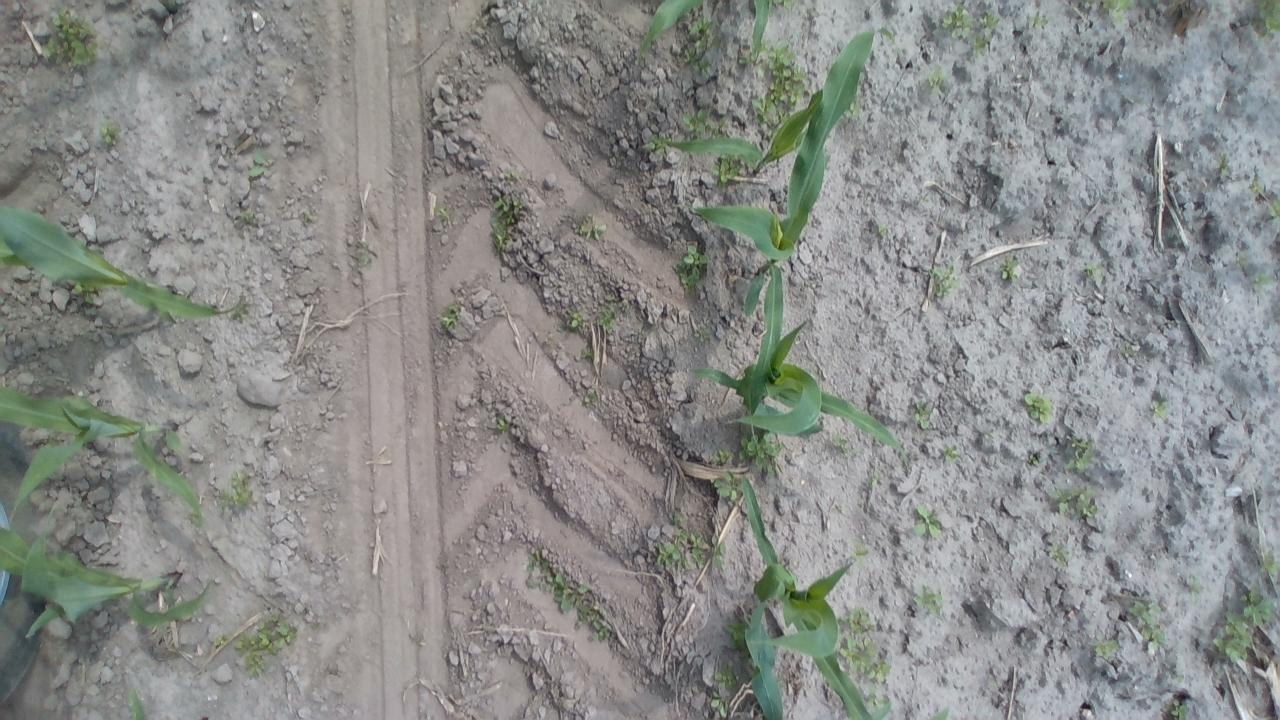Maize: (687, 37, 863, 324), (686, 270, 914, 460), (726, 473, 886, 720), (0, 197, 256, 328), (1, 389, 209, 526), (0, 516, 221, 642), (663, 36, 848, 172), (636, 0, 784, 65)
Weeds: (524, 546, 596, 614), (751, 44, 806, 126), (236, 612, 296, 676), (40, 10, 102, 71), (1211, 596, 1266, 662), (657, 526, 712, 570), (740, 428, 784, 474), (672, 243, 711, 293), (842, 607, 876, 662), (490, 195, 520, 250), (1052, 486, 1099, 520), (222, 470, 255, 510), (683, 109, 729, 136), (596, 296, 628, 334), (842, 635, 876, 670), (1022, 390, 1054, 425), (714, 670, 736, 718), (939, 4, 972, 36), (928, 264, 959, 298), (844, 607, 874, 641), (709, 156, 740, 188), (1128, 598, 1160, 629), (1068, 437, 1096, 472), (1252, 0, 1276, 40), (914, 505, 941, 538), (1098, 0, 1136, 23), (710, 477, 744, 502), (914, 586, 942, 616), (685, 46, 712, 74), (924, 65, 950, 94), (728, 621, 749, 656), (910, 399, 934, 429), (576, 216, 604, 241), (1140, 624, 1166, 649), (589, 615, 613, 642), (248, 151, 271, 179), (560, 310, 586, 333), (1094, 638, 1120, 660), (1254, 552, 1276, 578), (1047, 544, 1070, 568), (999, 258, 1022, 282), (440, 304, 464, 327), (97, 122, 118, 146), (1165, 698, 1189, 718), (1082, 261, 1102, 285), (979, 12, 1000, 34), (868, 692, 889, 714), (1184, 574, 1205, 596), (718, 666, 738, 688), (1150, 399, 1170, 421), (939, 442, 961, 462), (646, 132, 666, 154), (870, 659, 891, 679), (830, 434, 850, 455), (1250, 273, 1272, 292), (850, 544, 868, 567), (72, 283, 98, 298), (495, 416, 516, 434), (714, 542, 728, 569), (1028, 13, 1050, 30), (358, 244, 373, 268), (969, 36, 987, 56), (236, 207, 256, 225), (713, 448, 734, 464), (1216, 155, 1232, 176), (846, 99, 862, 120), (433, 202, 450, 220), (185, 509, 202, 527), (298, 208, 314, 226), (210, 634, 230, 647), (1233, 253, 1248, 270), (1250, 178, 1264, 195), (503, 170, 521, 182), (584, 390, 598, 405), (582, 346, 596, 360), (875, 221, 888, 236), (774, 0, 796, 8), (1028, 454, 1040, 465)
